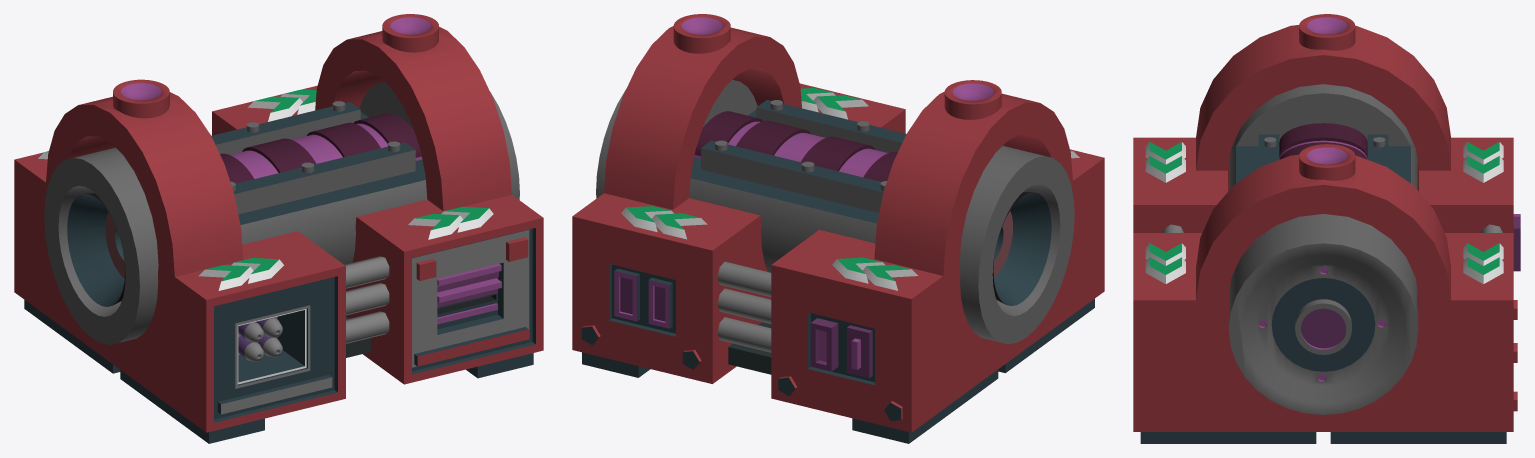
Rendered from MiniTuribe_02.fbx.
3 renders of one model, left to right at view 1: azimuth 30°, elevation 25°; view 2: azimuth 150°, elevation 25°; view 3: azimuth 270°, elevation 25°, orthographic.
Parts seen in each view (by area): view 1: Model; view 2: Model; view 3: Model.
Part boxes in pixels (left/top/right/bottom): Model: left=14, top=14, right=543, bottom=443; Model: left=572, top=14, right=1104, bottom=443; Model: left=1133, top=14, right=1520, bottom=443.
Size of the model in its own units: 257 by 179 by 229.
